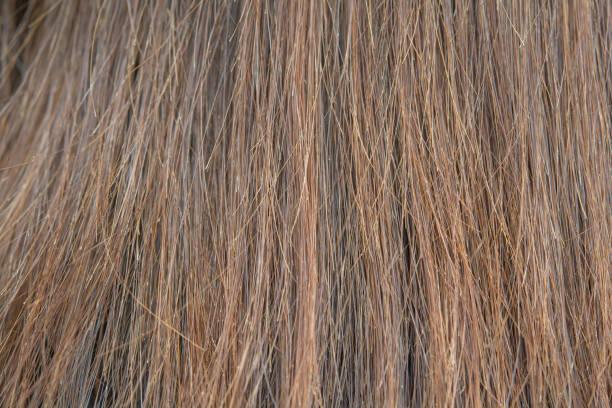dry hair: (61, 154, 181, 380), (395, 162, 500, 376)
